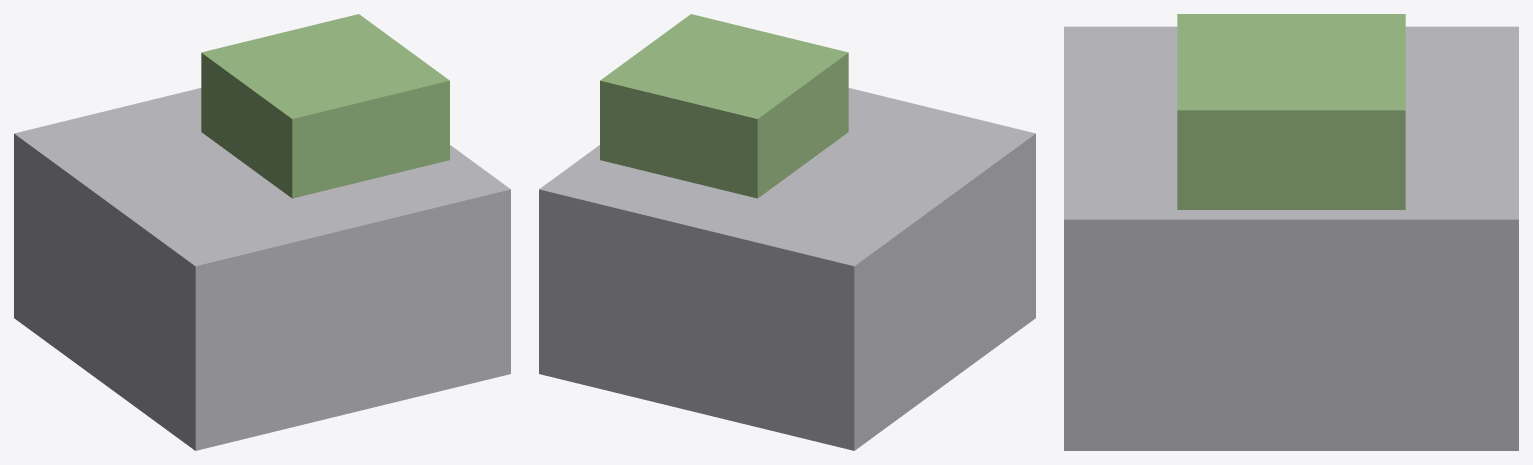
The model's file is Prop_Dress_AMF_Rock_V24.glb.
3 renders of one model, left to right at view 1: azimuth 30°, elevation 25°; view 2: azimuth 150°, elevation 25°; view 3: azimuth 270°, elevation 25°, orthographic. The views are drawn at different scales.
Parts seen in each view (by area): view 1: Prop_Dress_AMF_Rock_V24; view 2: Prop_Dress_AMF_Rock_V24; view 3: Prop_Dress_AMF_Rock_V24.
Boxes of the visible parts, x1=… form: Prop_Dress_AMF_Rock_V24: x1=14, y1=14, x2=510, y2=450; Prop_Dress_AMF_Rock_V24: x1=539, y1=14, x2=1035, y2=450; Prop_Dress_AMF_Rock_V24: x1=1064, y1=14, x2=1518, y2=450.
Bounding box in the file's own units: 1.25 × 1 × 1.25.
